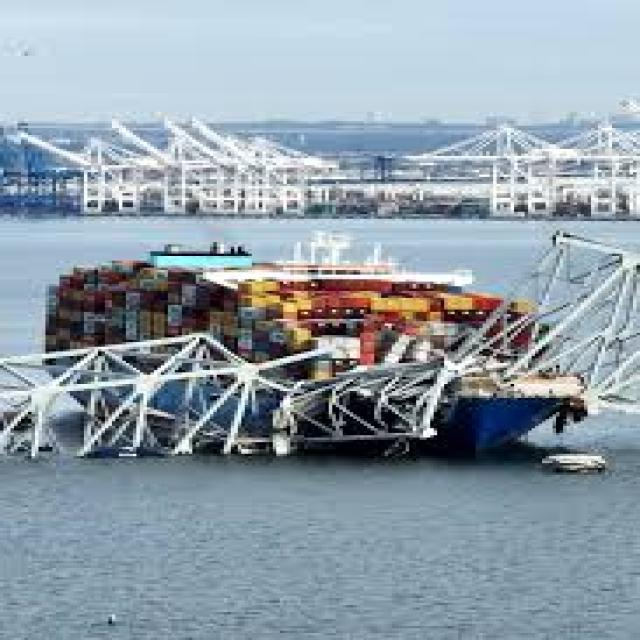bridge collapse: (93, 120, 640, 491)
